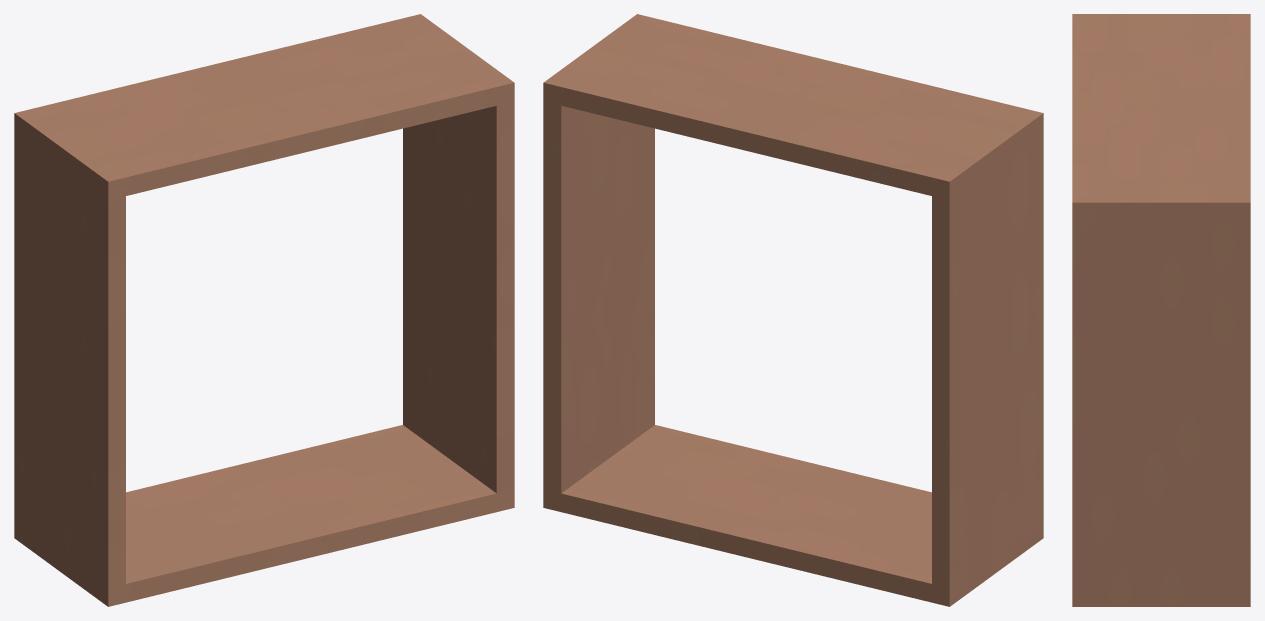
The model's file is Wall_Shelf_02_01.fbx.
3 views of the same model, side by side, from view 1: azimuth 30°, elevation 25°; view 2: azimuth 150°, elevation 25°; view 3: azimuth 270°, elevation 25° (orthographic). The views are drawn at different scales.
Visible parts, largest first — view 1: Wall_Shelf_02_01; view 2: Wall_Shelf_02_01; view 3: Wall_Shelf_02_01.
Part boxes in pixels (box(x1,y1,x2,y2)): Wall_Shelf_02_01: box(14, 14, 514, 606); Wall_Shelf_02_01: box(543, 14, 1043, 606); Wall_Shelf_02_01: box(1072, 14, 1250, 606).
Bounding box in the file's own units: 0.744 × 0.744 × 0.2976.
